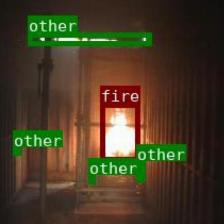fire: (99, 102, 139, 161)
